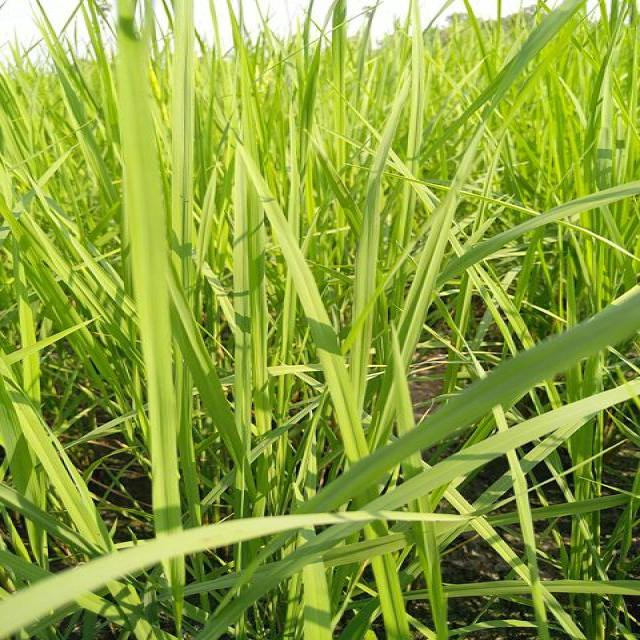Rice: (242, 152, 365, 461), (120, 3, 176, 534), (346, 70, 409, 404), (174, 287, 252, 488), (359, 460, 408, 640), (591, 48, 627, 287), (42, 281, 116, 394), (397, 3, 426, 248), (570, 351, 601, 577), (4, 190, 62, 285), (410, 577, 640, 600), (296, 487, 328, 640), (14, 285, 40, 404)
